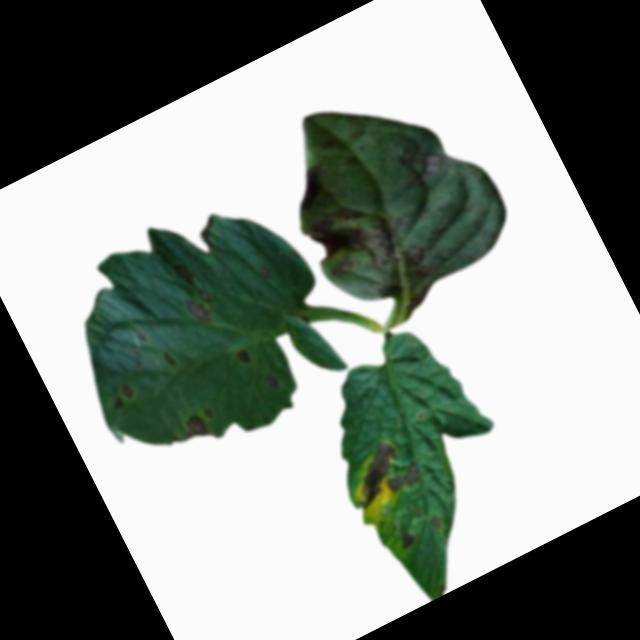Early_blight: (300, 181, 444, 324), (346, 438, 415, 506), (390, 126, 462, 190), (284, 164, 337, 216), (178, 282, 222, 331), (176, 402, 222, 446), (385, 460, 428, 496), (172, 258, 199, 289), (109, 383, 138, 411), (396, 527, 421, 553), (264, 368, 283, 391), (427, 511, 447, 532), (236, 346, 256, 366)
